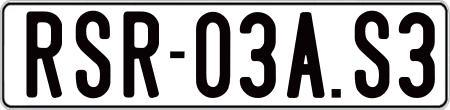0: (193, 11, 232, 103)
3: (397, 10, 435, 99), (239, 10, 277, 97)
A: (285, 11, 325, 102)
R: (25, 8, 66, 100), (121, 9, 160, 99)
S: (75, 10, 114, 101), (352, 10, 390, 99)
